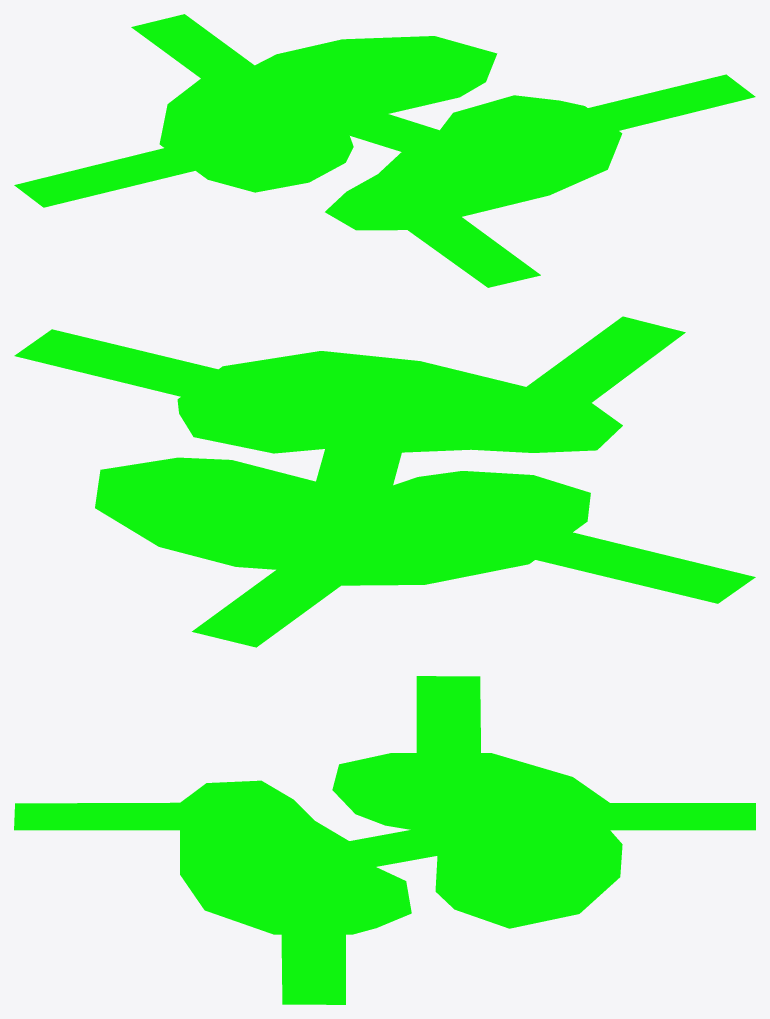
Rendered from s02a_xb2-floor.glb.
3 views of the same model, one above another, from view 1: azimuth 30°, elevation 25°; view 2: azimuth 150°, elevation 25°; view 3: azimuth 270°, elevation 25° (orthographic). The views are drawn at different scales.
Parts seen in each view (by area): view 1: collision_floor-colonly; view 2: collision_floor-colonly; view 3: collision_floor-colonly.
Boxes of the visible parts, x1,y1,x2,y2 form: collision_floor-colonly: (14, 14, 755, 287); collision_floor-colonly: (14, 316, 755, 647); collision_floor-colonly: (14, 676, 755, 1004).
Bounding box in the file's own units: 72.39 × 0 × 69.01.
